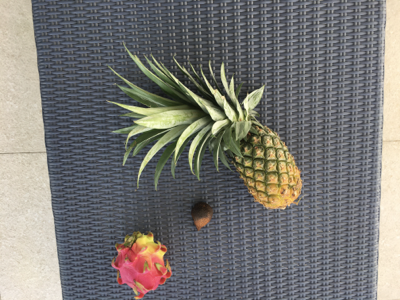dragon fruit: (112, 232, 173, 299)
pineapple: (107, 36, 302, 211)
snake fruit: (191, 201, 213, 232)
